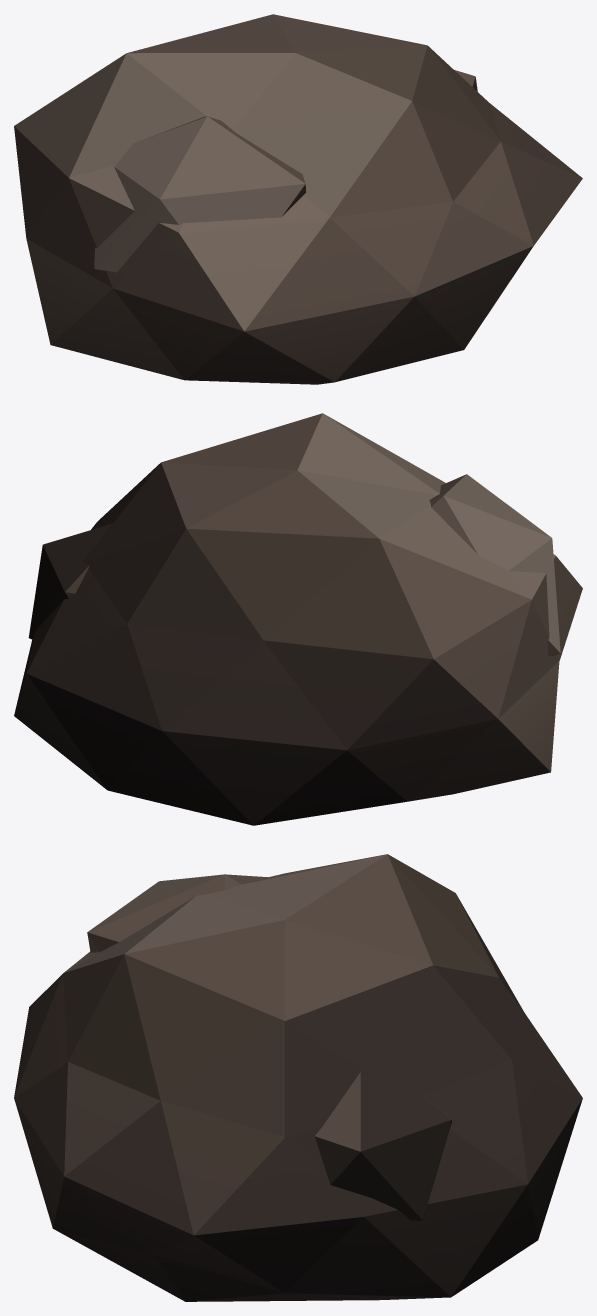
File: rockcell.glb
The picture shows the model from 3 angles, top to bottom: view 1: azimuth 30°, elevation 25°; view 2: azimuth 150°, elevation 25°; view 3: azimuth 270°, elevation 25°; orthographic projection. The views are drawn at different scales.
Parts seen in each view (by area): view 1: rockcell; view 2: rockcell; view 3: rockcell.
Part boxes in pixels (x1=…): rockcell: x1=14, y1=14, x2=582, y2=384; rockcell: x1=14, y1=413, x2=582, y2=825; rockcell: x1=14, y1=854, x2=582, y2=1301.
Size of the model in its own units: 0.8586 by 0.4607 by 0.7542.
